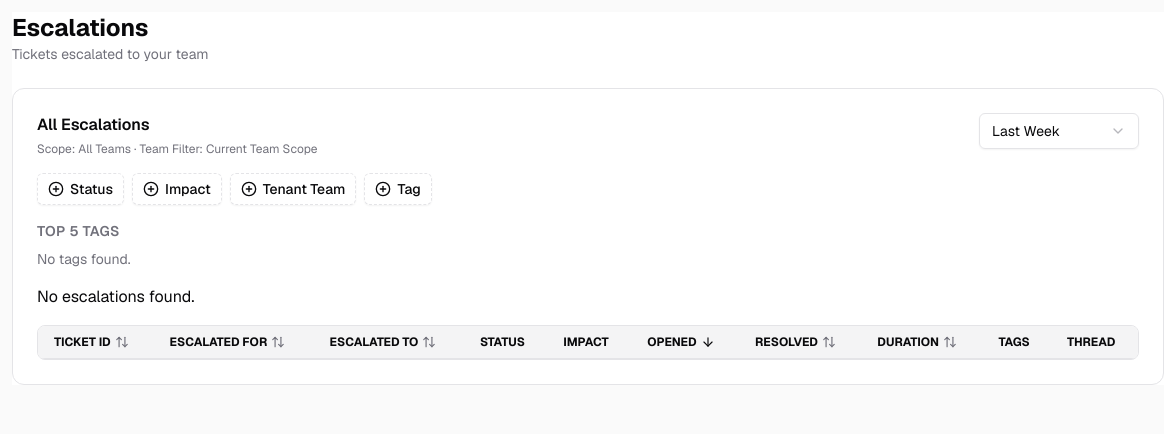
Test case: EscalationsPage › shows escalations older than the default range when "Any Date" is selected
The width and height of the screenshot is (1164, 434).
Expected: the text "T-OLD" is not shown
Click the dropdown with test id "escalations-date-filter" at (1059, 131), box [979,113,1139,149]
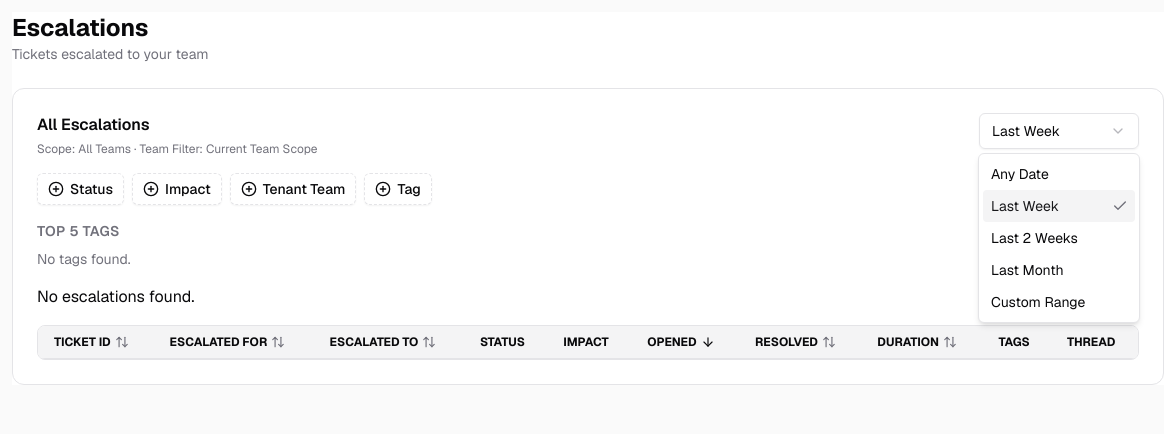
Click the option "Any Date" at (1020, 174), box [991,165,1049,183]
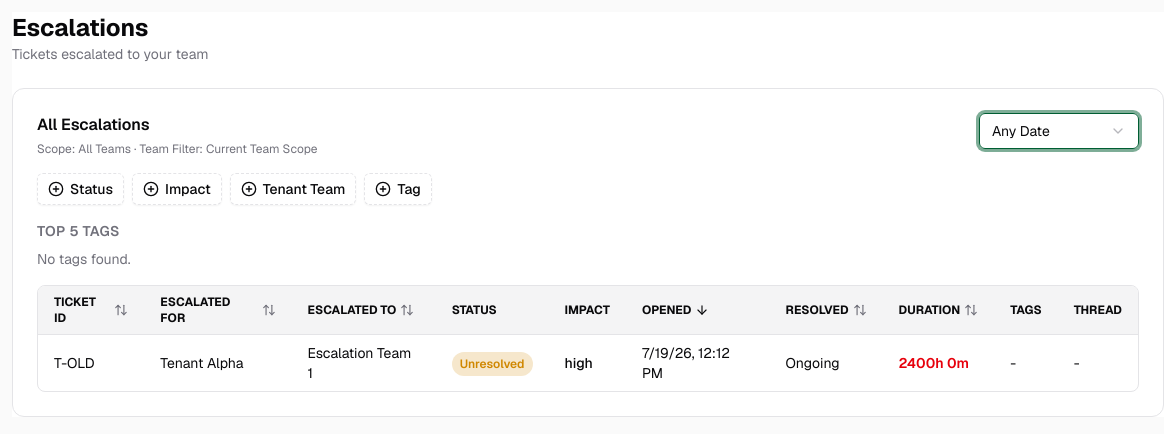
Expected: the dropdown with test id "escalations-date-filter" reads "Any Date", [979,113,1139,149]
Expected: the text "T-OLD" is shown, [38,334,144,391]
